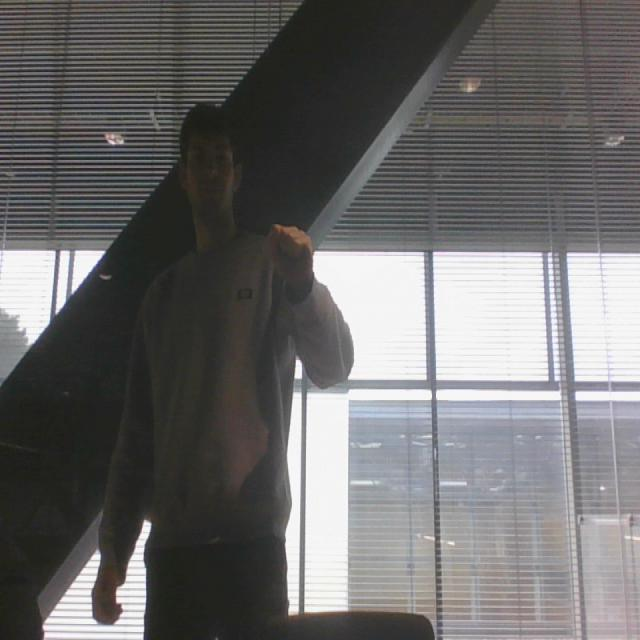stop: (257, 215, 319, 288)
